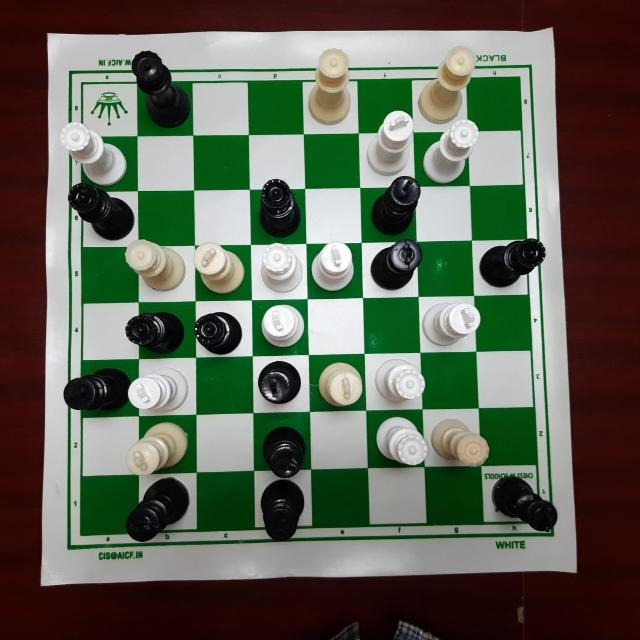black-king: (124, 47, 194, 130), (487, 473, 564, 543), (127, 474, 194, 545), (364, 230, 427, 294), (252, 479, 309, 547), (60, 361, 131, 413), (252, 418, 312, 479), (371, 173, 425, 236), (254, 361, 310, 415)
black-queen: (61, 175, 138, 237), (477, 233, 549, 289), (122, 305, 189, 359), (249, 178, 304, 236), (194, 303, 244, 354)
white-king: (126, 415, 192, 485), (301, 238, 367, 300), (360, 108, 417, 176), (126, 362, 190, 417), (253, 298, 311, 356), (421, 301, 483, 353), (190, 239, 243, 294), (314, 361, 368, 409)
white-queen: (53, 115, 131, 183), (302, 46, 360, 128), (417, 45, 478, 122), (118, 231, 184, 294), (249, 239, 307, 300), (425, 117, 482, 179), (428, 417, 494, 470), (377, 419, 431, 471), (373, 353, 427, 405)
